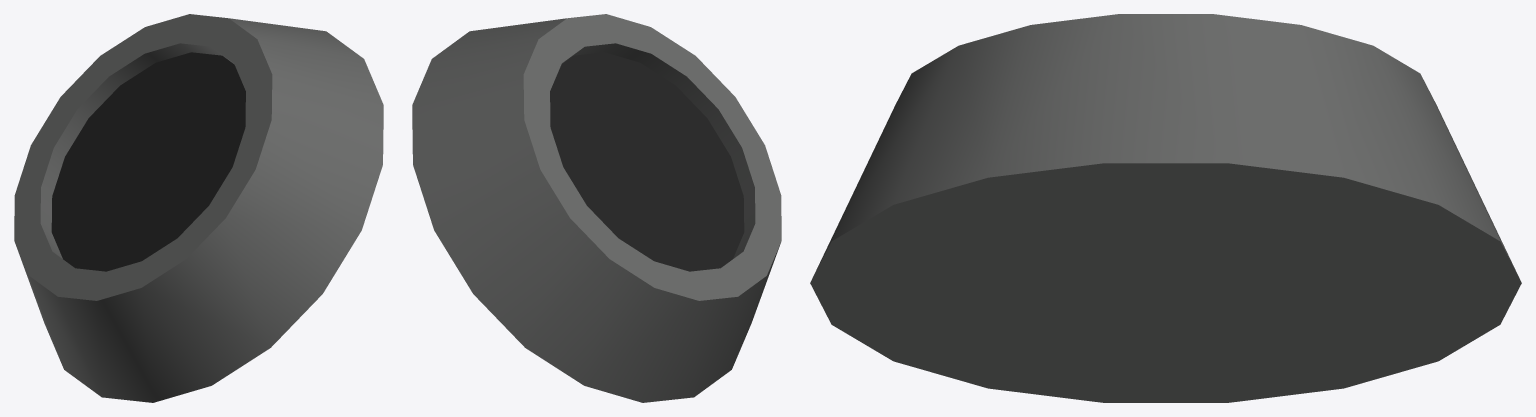
File: Roof_VentL_Cylinder.obj
The picture shows the model from 3 angles, left to right: view 1: azimuth 30°, elevation 25°; view 2: azimuth 150°, elevation 25°; view 3: azimuth 270°, elevation 25°; orthographic projection. The views are drawn at different scales.
Visible parts, largest first — view 1: Roof_VentL_Cylinder.000; view 2: Roof_VentL_Cylinder.000; view 3: Roof_VentL_Cylinder.000.
Boxes of the visible parts, x1,y1,x2,y2 form: Roof_VentL_Cylinder.000: [14, 14, 383, 402]; Roof_VentL_Cylinder.000: [412, 14, 781, 402]; Roof_VentL_Cylinder.000: [810, 14, 1521, 402].
Size of the model in its own units: 1.15 by 1.15 by 1.43.
